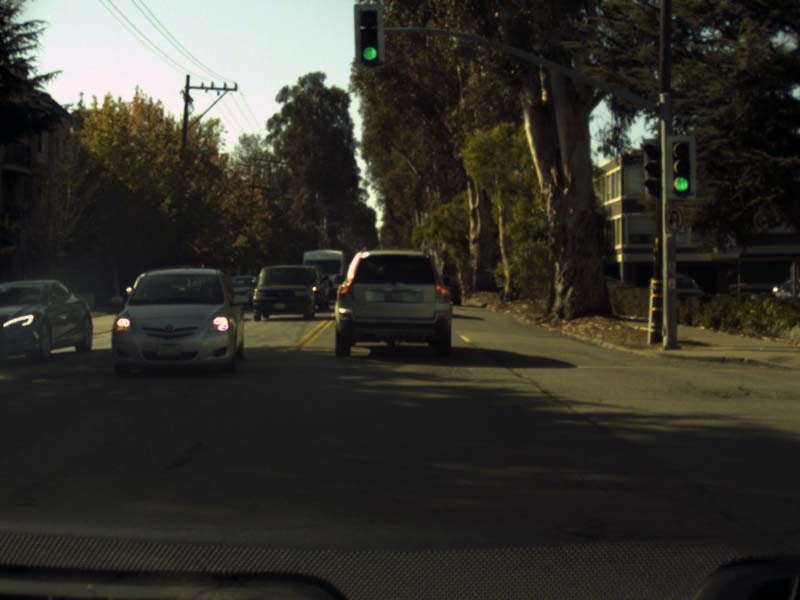Green: (359, 10, 379, 65), (672, 142, 690, 193)
